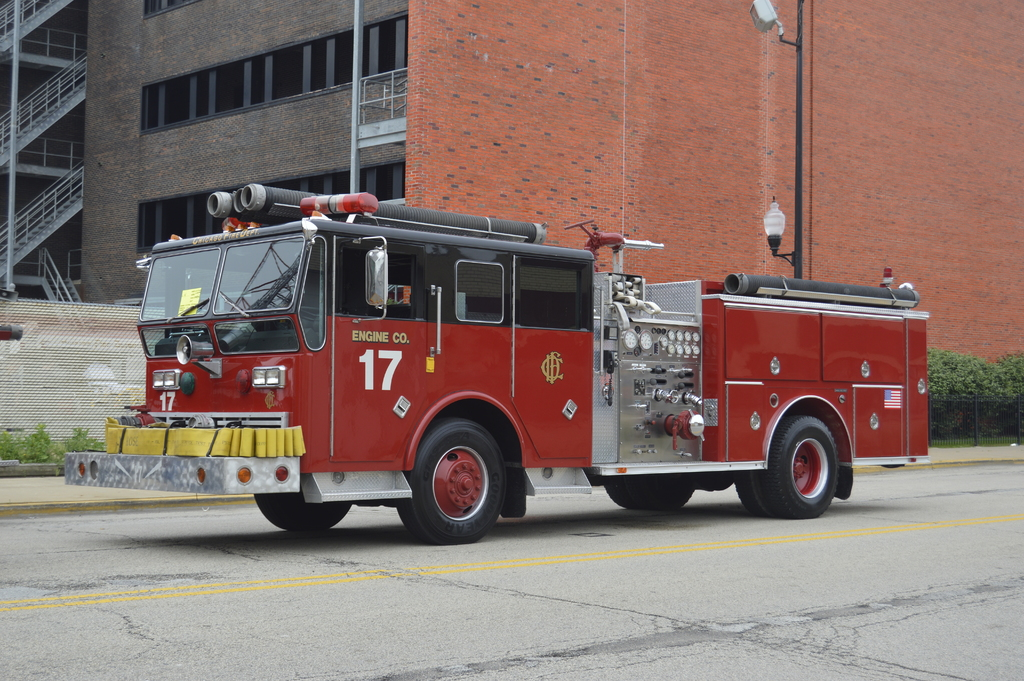truck: (39, 163, 938, 558)
